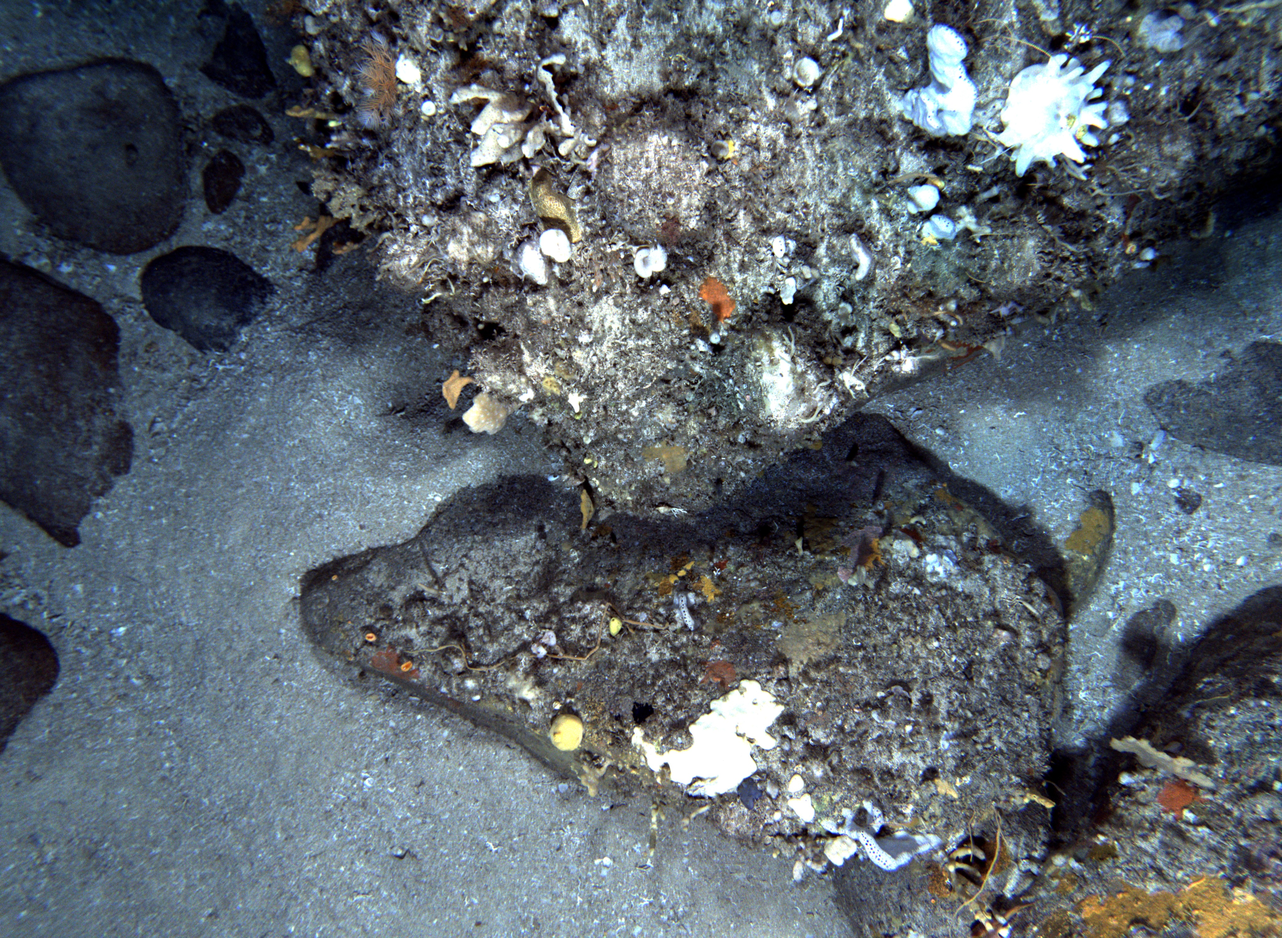Brachionichthyidae: (968, 899, 1043, 938)
